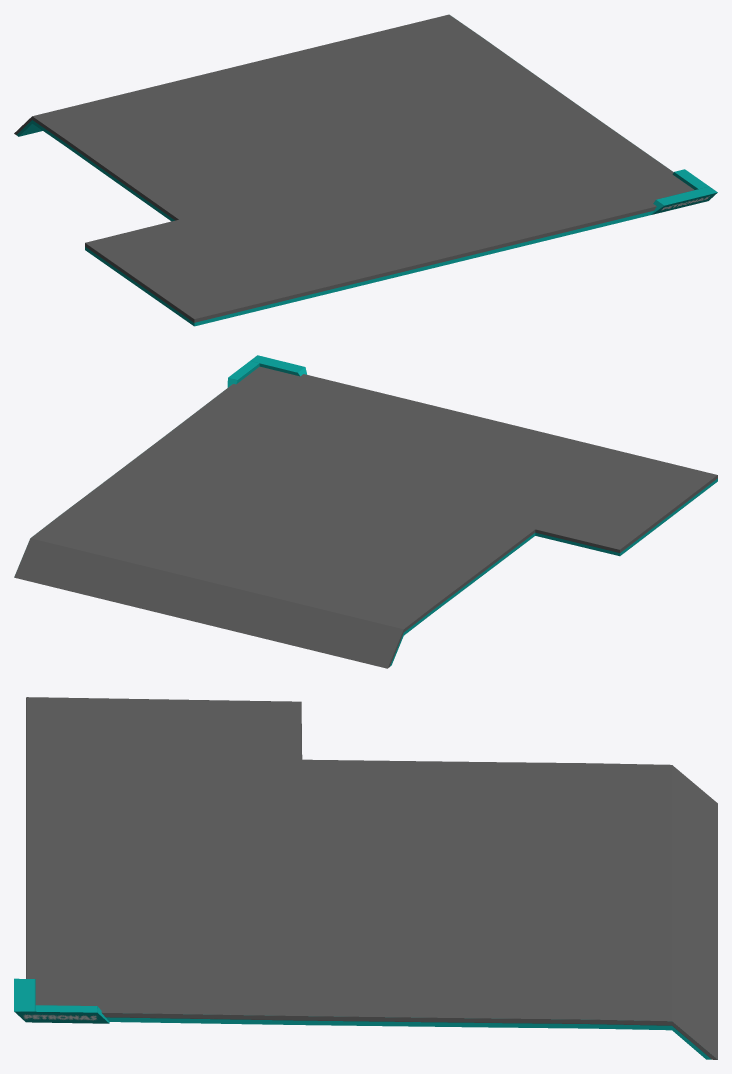
File: PETRONAS ROOF.fbx
The picture shows the model from 3 angles, top to bottom: view 1: azimuth 30°, elevation 25°; view 2: azimuth 150°, elevation 25°; view 3: azimuth 270°, elevation 25°; orthographic projection. The views are drawn at different scales.
Visible parts, largest first — view 1: PETRONAS_ROOF; view 2: PETRONAS_ROOF; view 3: PETRONAS_ROOF.
Boxes of the visible parts, box(x1,y1,x2,y2) form: PETRONAS_ROOF: box(14, 14, 717, 326); PETRONAS_ROOF: box(14, 355, 717, 668); PETRONAS_ROOF: box(14, 697, 717, 1059).
Bounding box in the file's own units: 4519 × 350 × 4214.
1 material, 1 textured.
